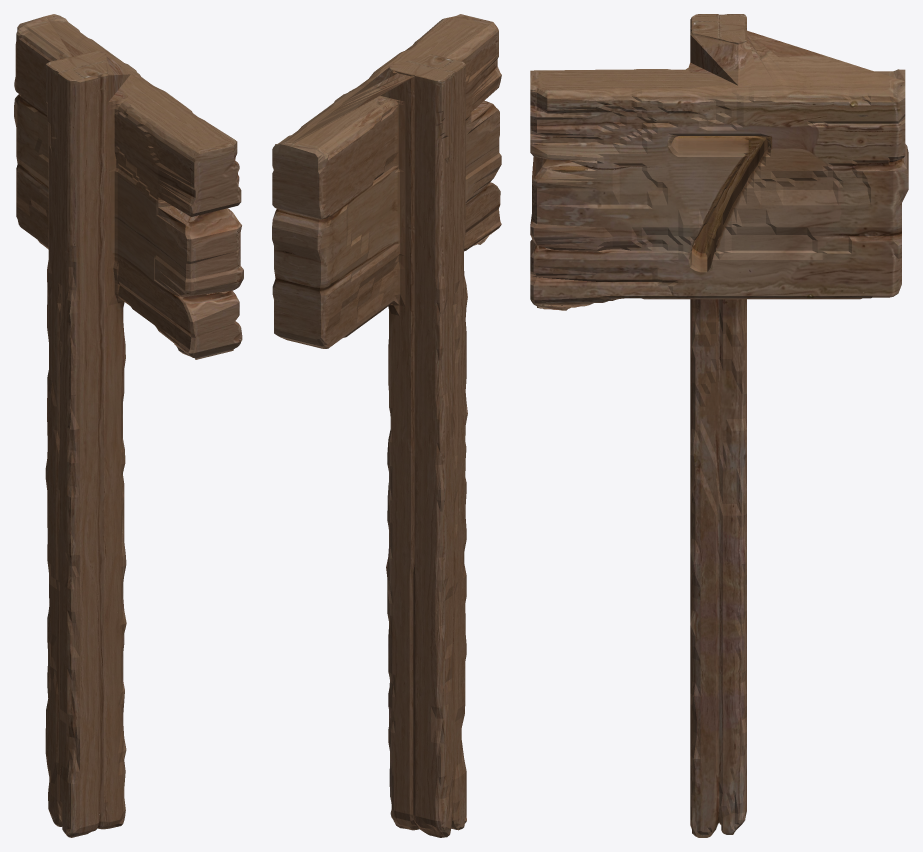
The model's file is Letrero 7.glb.
The picture shows the model from 3 angles, left to right: view 1: azimuth 30°, elevation 25°; view 2: azimuth 150°, elevation 25°; view 3: azimuth 270°, elevation 25°; orthographic projection. The views are drawn at different scales.
Parts seen in each view (by area): view 1: tripo_node_7ad0d546-3f14-4b31-9242-0cee2b39abea; view 2: tripo_node_7ad0d546-3f14-4b31-9242-0cee2b39abea; view 3: tripo_node_7ad0d546-3f14-4b31-9242-0cee2b39abea.
Part boxes in pixels (bbox=[...]): tripo_node_7ad0d546-3f14-4b31-9242-0cee2b39abea: bbox=[14, 14, 243, 837]; tripo_node_7ad0d546-3f14-4b31-9242-0cee2b39abea: bbox=[272, 14, 501, 837]; tripo_node_7ad0d546-3f14-4b31-9242-0cee2b39abea: bbox=[530, 14, 908, 837].
Size of the model in its own units: 0.135 by 1 by 0.4305.
Materials: 1 (1 with a texture image).
